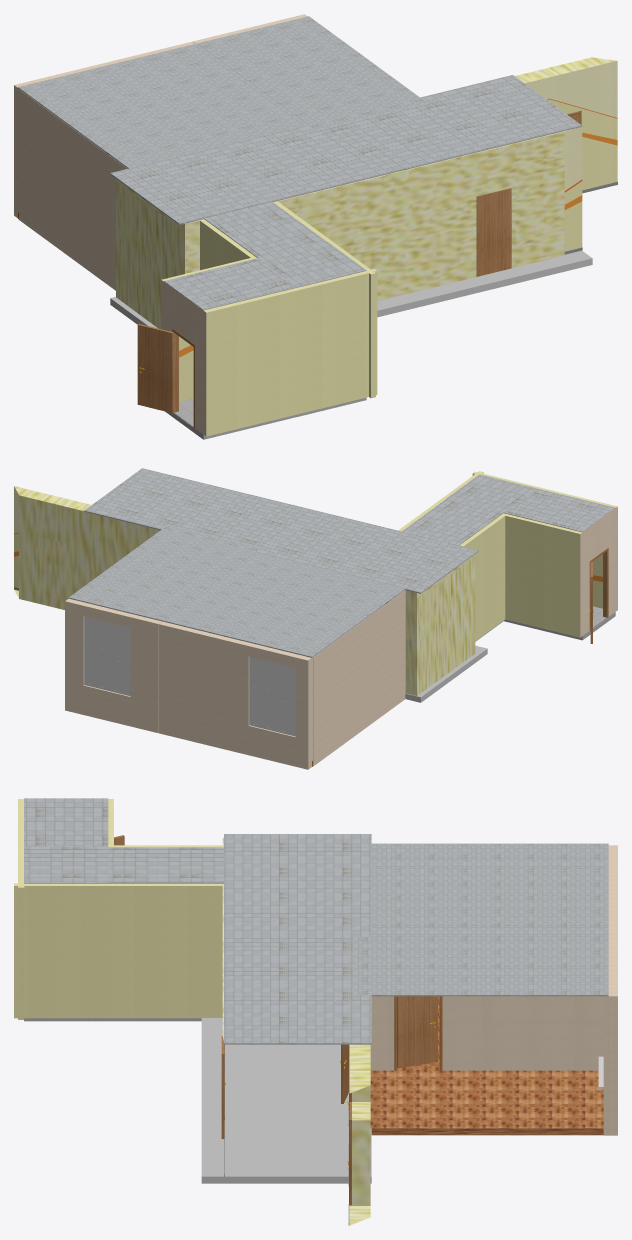
File: piece_of_corridor.fbx
3 views of the same model, one above another, from view 1: azimuth 30°, elevation 25°; view 2: azimuth 150°, elevation 25°; view 3: azimuth 270°, elevation 25° (orthographic). The views are drawn at different scales.
Visible parts, largest first — view 1: Plane.003, Cube.282, Cube.257, Cube.286, Cube.285, Cube.267, Plane.004, Plane.005, Cube.020, Cube.259, Cube.254, Sphere.012 (+9 smaller); view 2: Cube.282, Cube.269, Cube.286, Plane.005, Cube.267, Cube.285, Cube.256, Cube.264, Plane.004, Cube.249, Cube.259, Cube.254 (+10 smaller); view 3: Cube.282, Cube.250, Cube.286, Cube.020, Cube.262, Cube.285, Cube.263, Cube.254, Cube.259, Plane.005, Cube.255, Cube.268 (+4 smaller).
Boxes of the visible parts, x1,y1,x2,y2 form: Plane.003: [185, 127, 582, 300]; Cube.282: [110, 75, 582, 224]; Cube.257: [203, 269, 377, 436]; Cube.286: [18, 43, 307, 168]; Cube.285: [197, 16, 427, 130]; Cube.267: [19, 89, 127, 290]; Plane.004: [116, 179, 190, 328]; Plane.005: [515, 57, 617, 190]; Cube.020: [110, 250, 592, 328]; Cube.259: [164, 258, 297, 310]; Cube.254: [204, 201, 325, 257]; Sphere.012: [137, 324, 173, 412]; Cube.282: [84, 468, 478, 593]; Cube.269: [159, 621, 312, 769]; Cube.286: [162, 552, 405, 657]; Plane.005: [14, 486, 416, 695]; Cube.267: [313, 590, 405, 766]; Cube.285: [68, 524, 261, 621]; Cube.256: [505, 514, 582, 637]; Cube.264: [65, 598, 162, 733]; Plane.004: [417, 554, 475, 695]; Cube.249: [460, 513, 507, 640]; Cube.259: [504, 488, 615, 532]; Cube.254: [402, 498, 503, 545]; Cube.282: [224, 834, 371, 1044]; Cube.250: [14, 883, 223, 1018]; Cube.286: [371, 843, 608, 936]; Cube.020: [201, 1018, 371, 1183]; Cube.262: [370, 1070, 603, 1135]; Cube.285: [353, 937, 608, 996]; Cube.263: [370, 996, 603, 1070]; Cube.254: [108, 847, 223, 883]; Cube.259: [24, 798, 108, 846]; Plane.005: [349, 1044, 370, 1225]; Cube.255: [24, 847, 108, 883]; Cube.268: [397, 996, 437, 1068].
Size of the model in its own units: 867 by 186 by 726.
